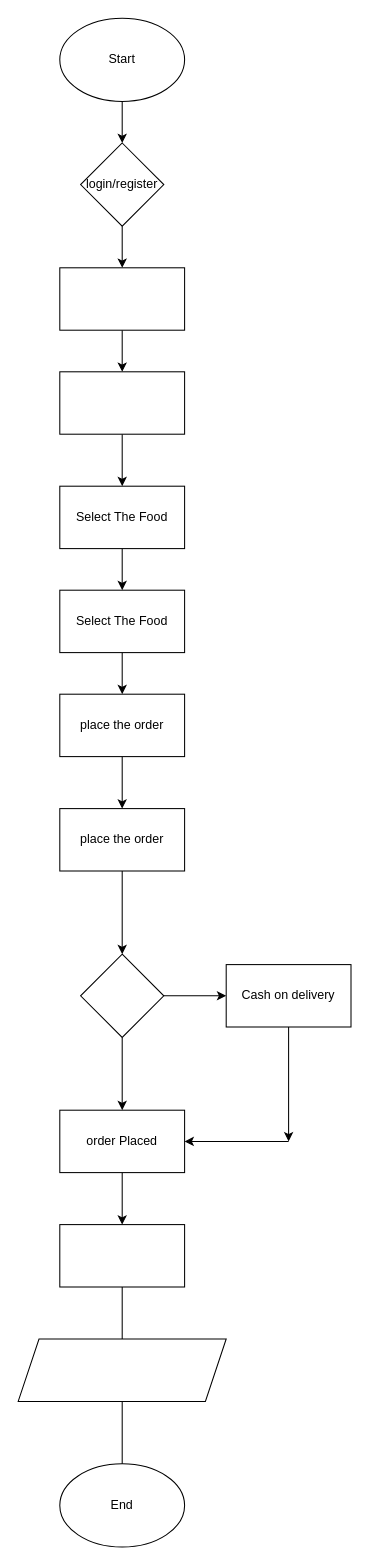
This 369x1565 diagram has some shape labels left out. The shapes that lost their labels are listed below. From the top down, each one's box as (x1, y1, x2, y2) in pixels, then its label:
(59, 267, 185, 330): Enable location
(59, 371, 185, 434): Choose The Resturant
(80, 953, 164, 1037): Make the payment online
(59, 1224, 185, 1287): Order Recieved
(17, 1338, 226, 1401): Give the Review and Ratings for food and Resturant
